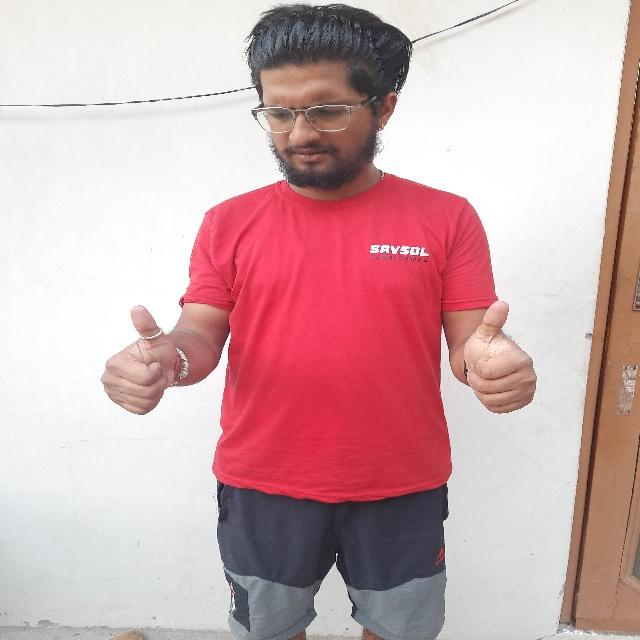Thumbs Up: (91, 297, 186, 427), (455, 292, 542, 420)
